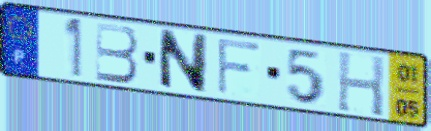1: (62, 15, 85, 83)
5: (284, 46, 328, 105)
B: (94, 20, 141, 85)
F: (215, 36, 263, 97)
H: (335, 48, 387, 119)
N: (156, 27, 211, 96)
